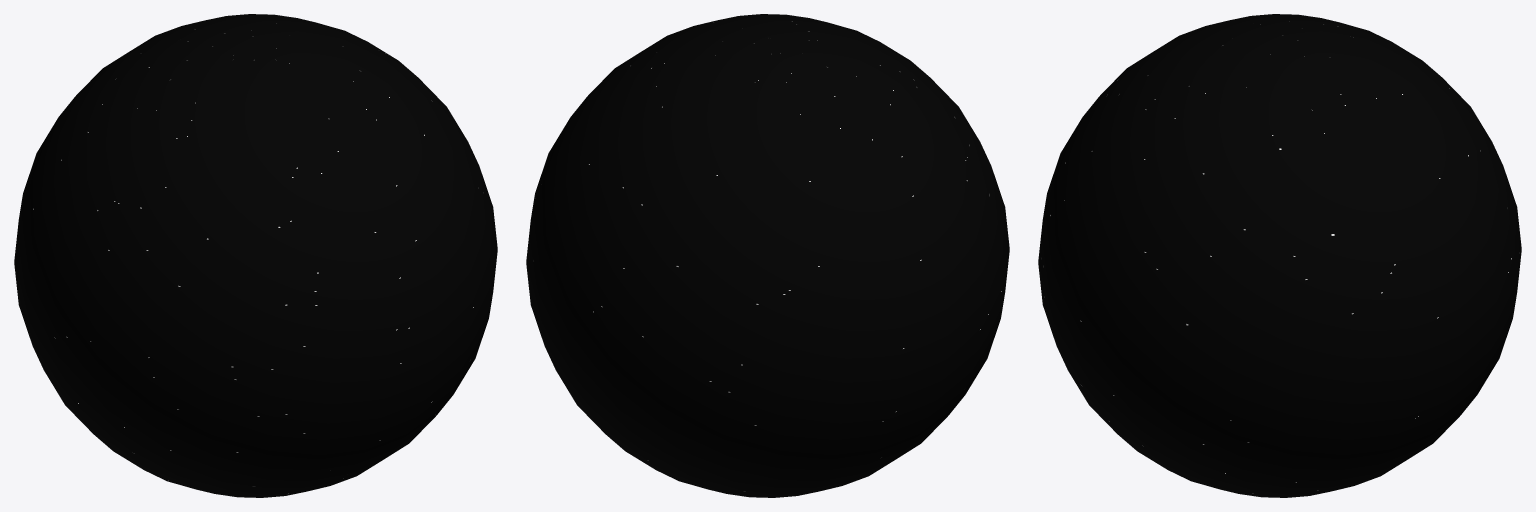
File: skysphere.dae
3 renders of one model, left to right at view 1: azimuth 30°, elevation 25°; view 2: azimuth 150°, elevation 25°; view 3: azimuth 270°, elevation 25°, orthographic.
Visible parts, largest first — view 1: Model; view 2: Model; view 3: Model.
Boxes of the visible parts, x1,y1,x2,y2 form: Model: (14,14,497,497); Model: (526,14,1009,497); Model: (1038,14,1521,497).
Bounding box in the file's own units: 112 × 112 × 112.
1 material, 1 textured.
